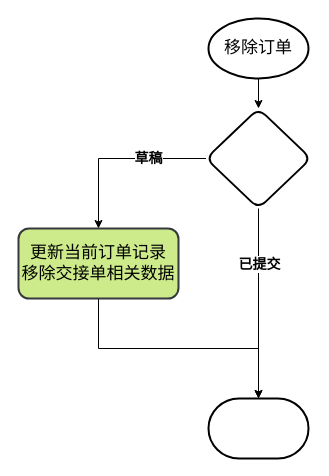
Image size: 329x476. Some labels were removed from this diagram. The shapes that lost their labels are listed below. From the top down, each one's centre as x and y in pixels, then its label:
point 258,158: 当前交接单 是草稿或 已提交
point 258,428: 结束
